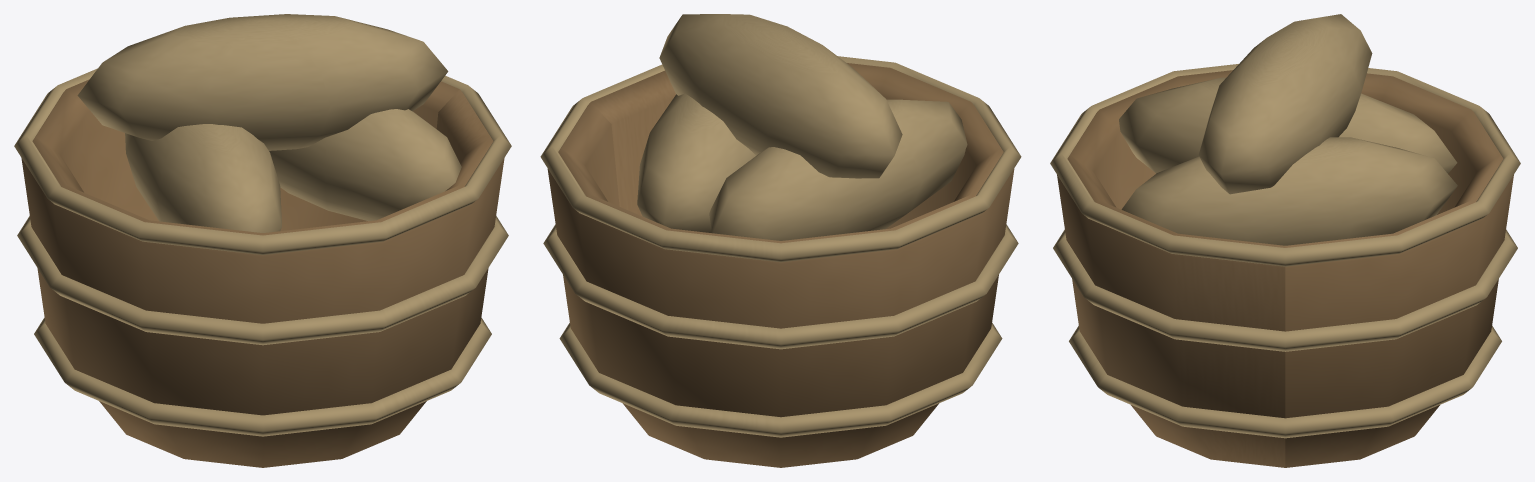
File: s05-brot.glb
3 renders of one model, left to right at view 1: azimuth 30°, elevation 25°; view 2: azimuth 150°, elevation 25°; view 3: azimuth 270°, elevation 25°, orthographic. The views are drawn at different scales.
Visible parts, largest first — view 1: s05-brot; view 2: s05-brot; view 3: s05-brot.
Boxes of the visible parts, box(x1,y1,x2,y2) form: s05-brot: box(14, 14, 511, 467); s05-brot: box(540, 14, 1021, 467); s05-brot: box(1050, 14, 1520, 467).
Size of the model in its own units: 0.504 by 0.425 by 0.504.
Materials: 1 (1 with a texture image).
